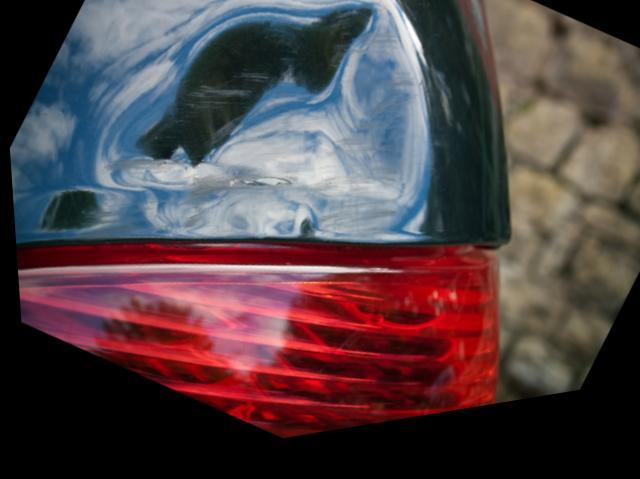dent: (97, 14, 424, 247)
